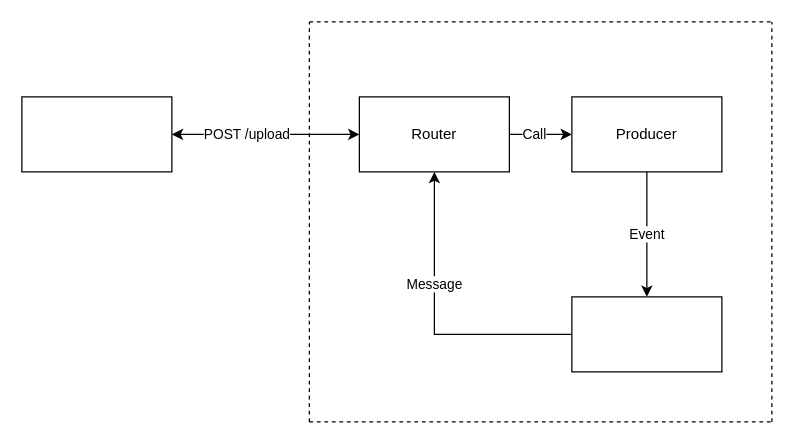
The diagram is 795 pixels wide and 445 high, and some of its shapes have lost their labels. The centre of each missing label's shape, as x and y in pixels:
"Consumer 1..25" belongs at point 646,334.
"User" belongs at point 96,134.
